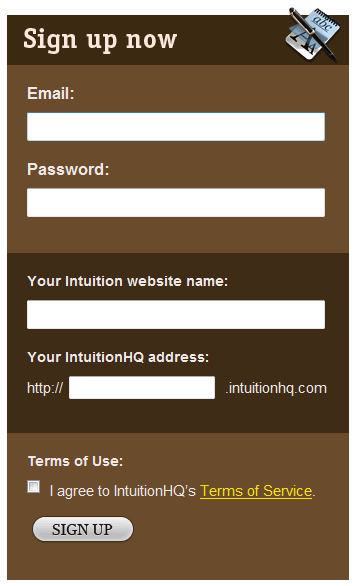_form_: (1, 170, 355, 586), (1, 1, 355, 416)
button: (32, 516, 133, 542)
checkbox: (26, 479, 45, 494)
checkbox_with_label: (24, 477, 319, 499)
field: (24, 109, 326, 142), (24, 185, 326, 218), (24, 297, 326, 330), (67, 374, 216, 400)
field_with_label: (21, 85, 327, 145), (21, 162, 328, 220), (22, 274, 329, 332), (64, 373, 327, 401), (26, 372, 217, 402)
